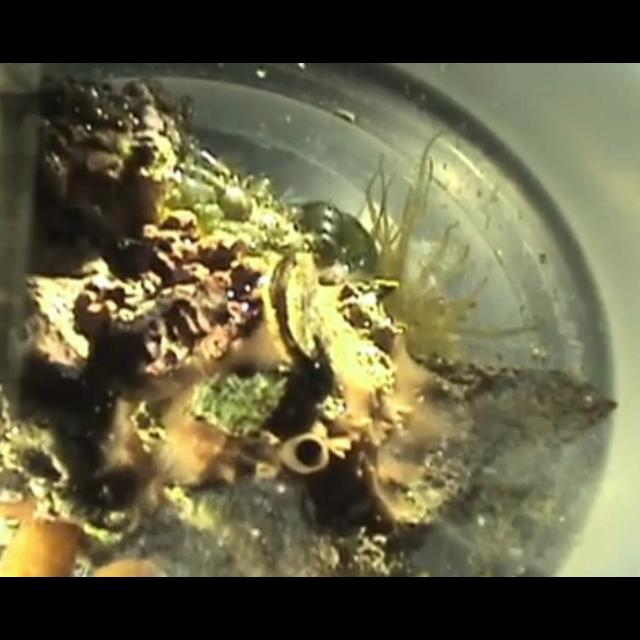Oyster-Open: (260, 250, 322, 370)
